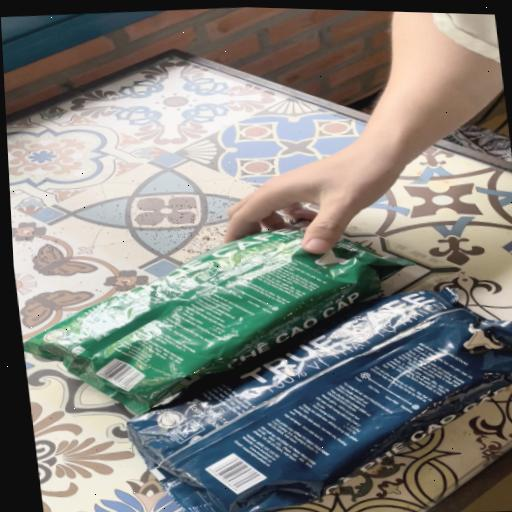cafe_hat: (127, 289, 512, 512)
cafe_xay: (23, 229, 410, 414)
ly_giay: (23, 229, 410, 414)
